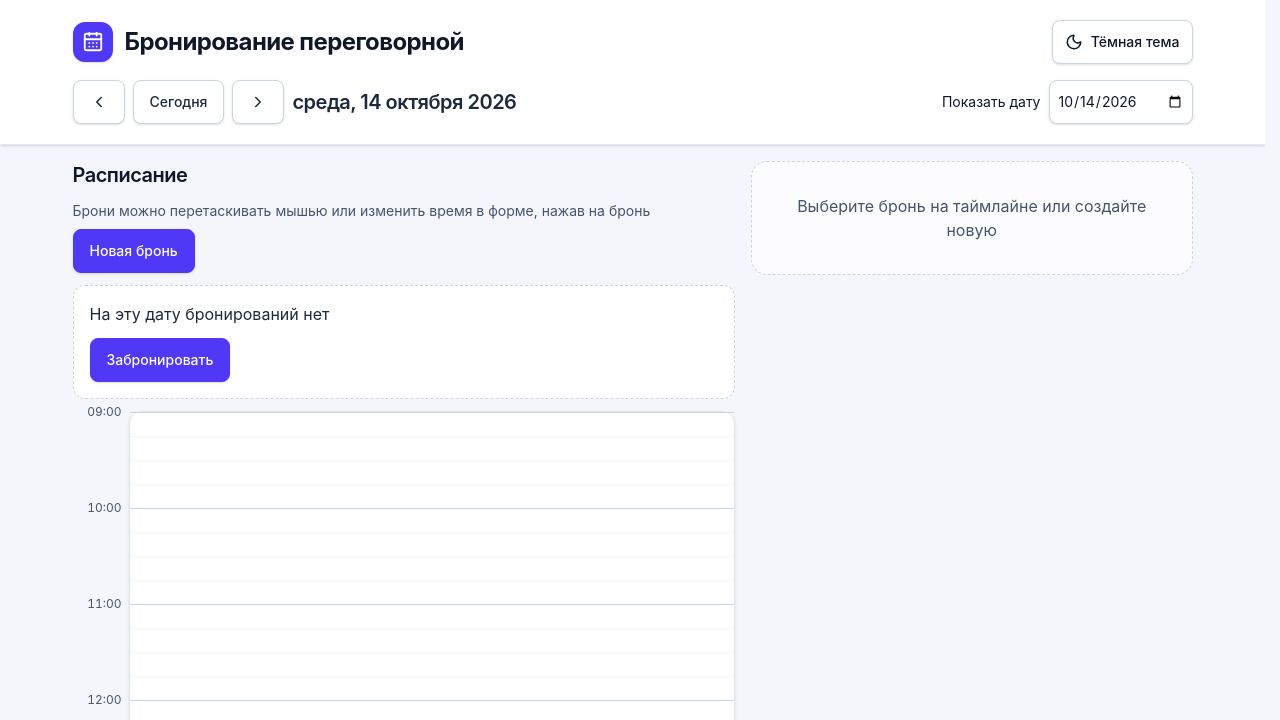
Test case: 2. create › creates a booking, closes the panel, toasts and focuses the new block
Click the button "Новая бронь" at (134, 251), box [72,229,195,273]
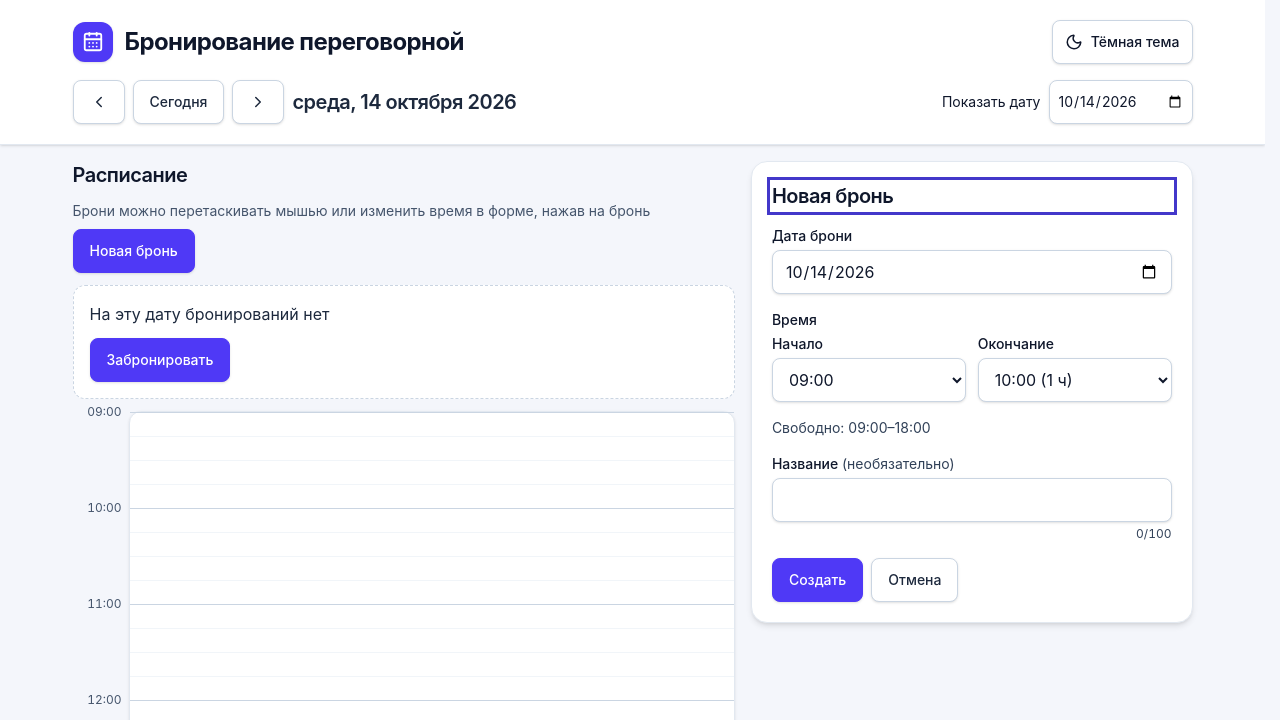
Check: the heading "Новая бронь" is shown, box [772,184,893,208]
Check: the dropdown labelled "Начало" shows "09:00"
Check: the dropdown labelled "Окончание" shows "10:00 (1 ч)", box [978,358,1172,402]
Select "10:00" in the dropdown labelled "Начало" at (869, 380), box [772,358,966,402]
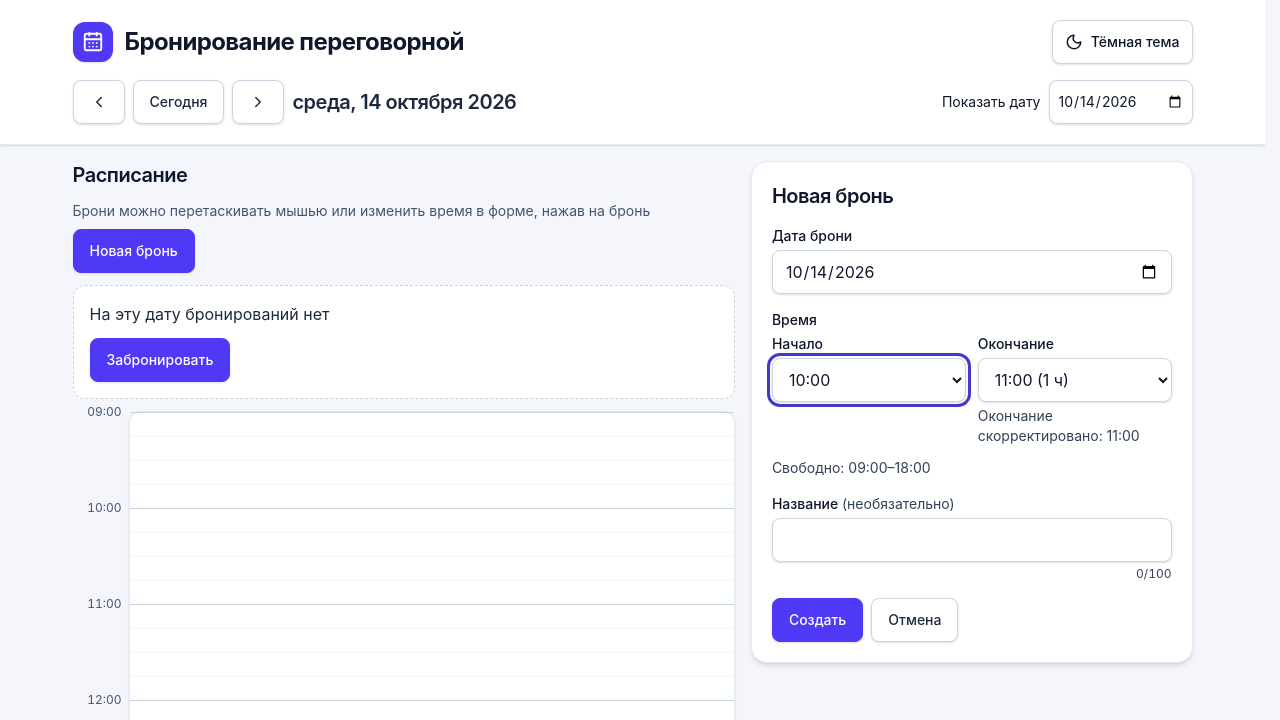
Check: the dropdown labelled "Окончание" shows "11:00 (1 ч)", box [978,358,1172,402]
Check: the text "Окончание скорректировано: 11:00" is shown, box [978,407,1140,444]
Type "Ретро" into the field labelled "Название (необязательно)" at (972, 540), box [772,518,1172,562]
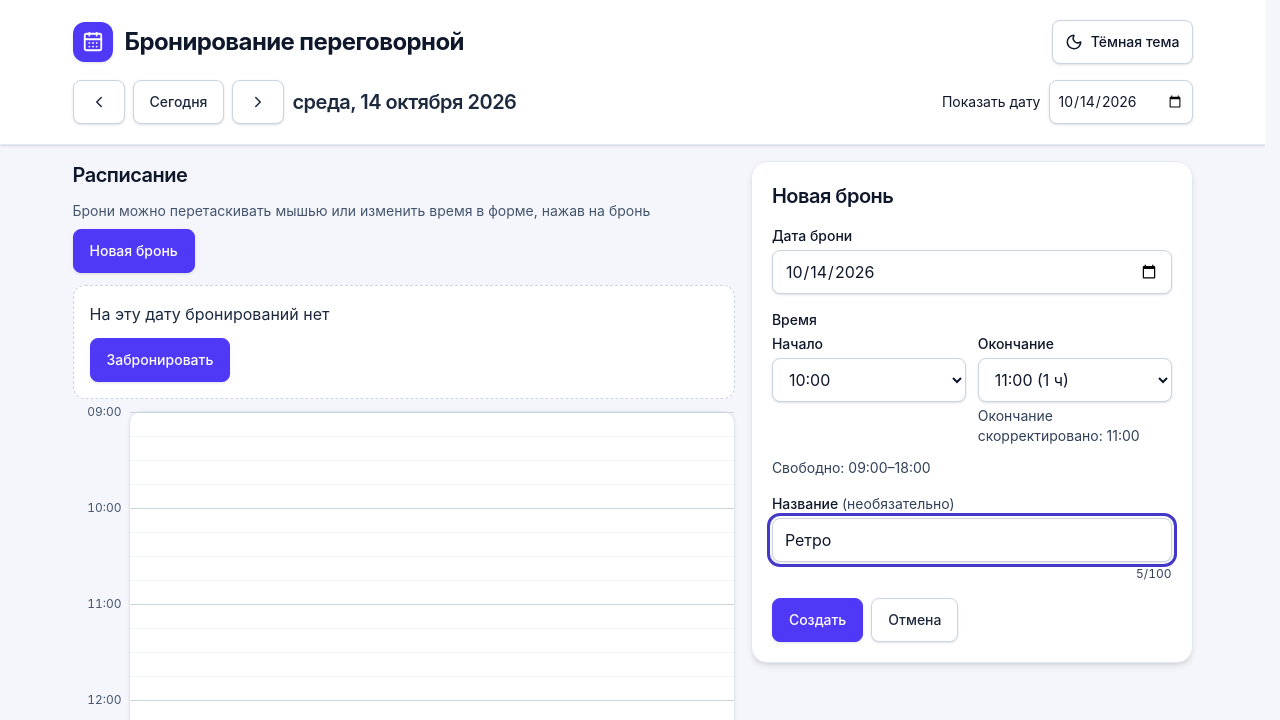
Click the button "Создать" at (818, 620), box [772,598,863,642]
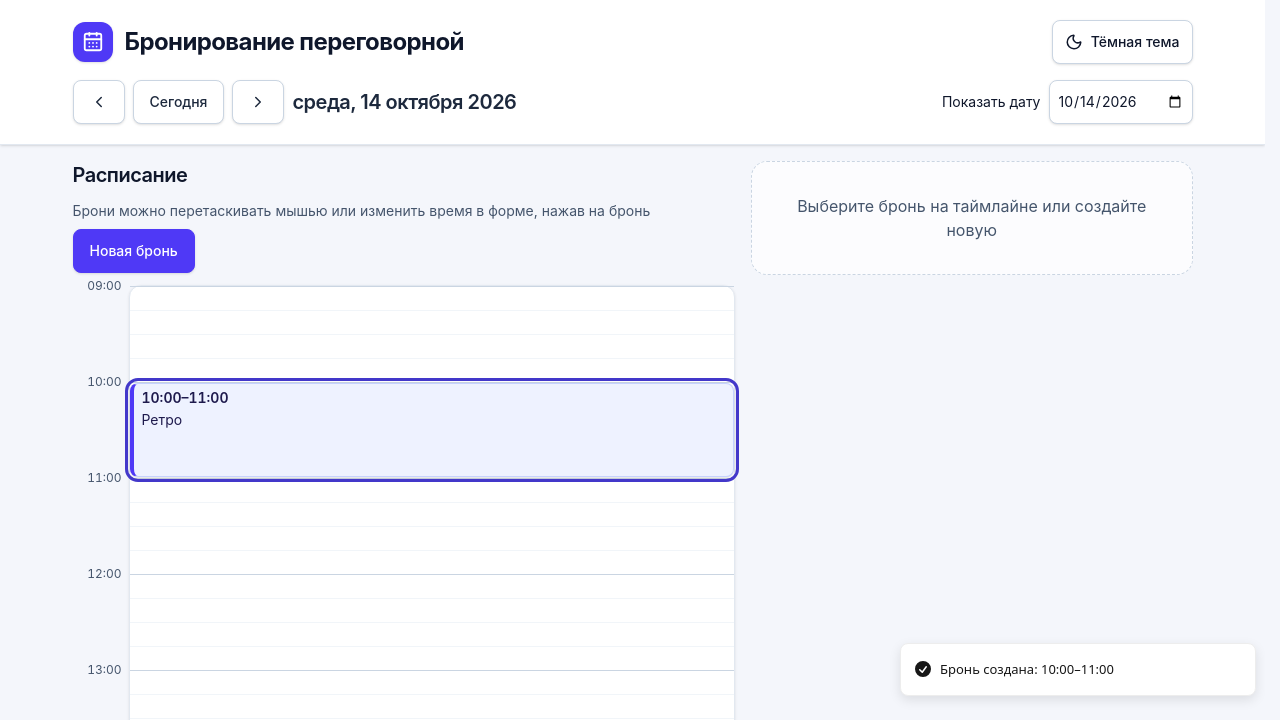
Check: the text "Бронь создана: 10:00–11:00" is shown, box [940,660,1114,679]
